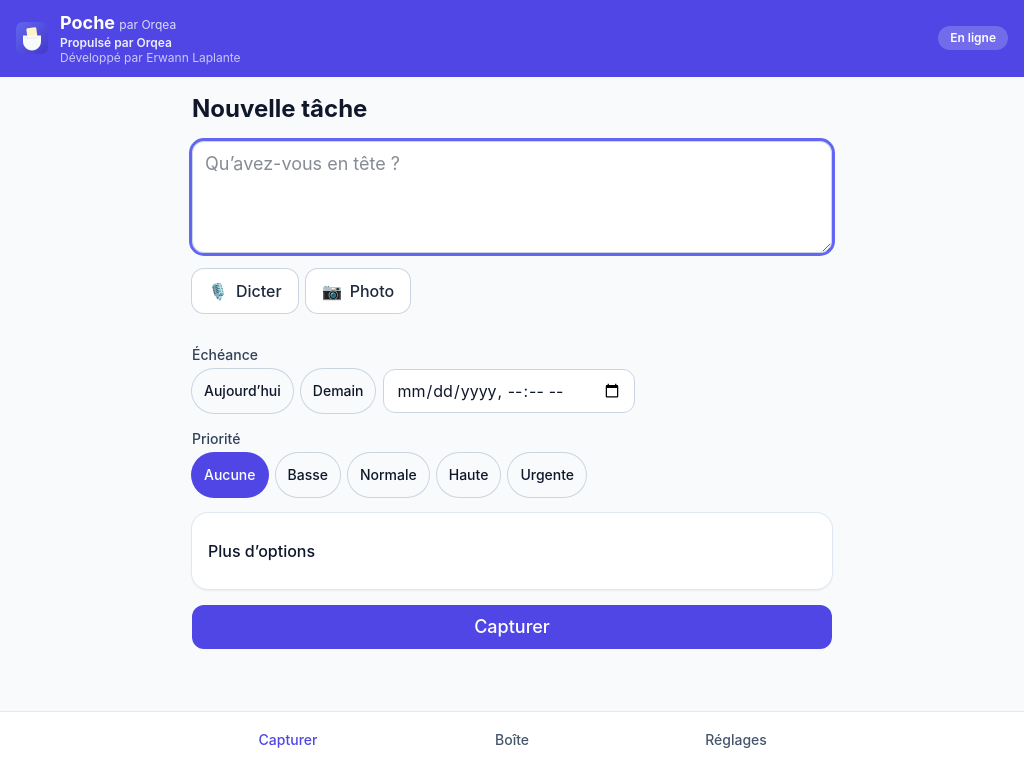
Test: App › opens on capture, navigates, and syncs at start
This screenshot has width=1024, height=768.
Expected: the heading "Nouvelle tâche" is shown, [192,94,367,122]
Expected: the 2nd button "Capturer" is shown, [176,712,400,767]
Click the button "Boîte" at point(512, 740), box [400,712,624,767]
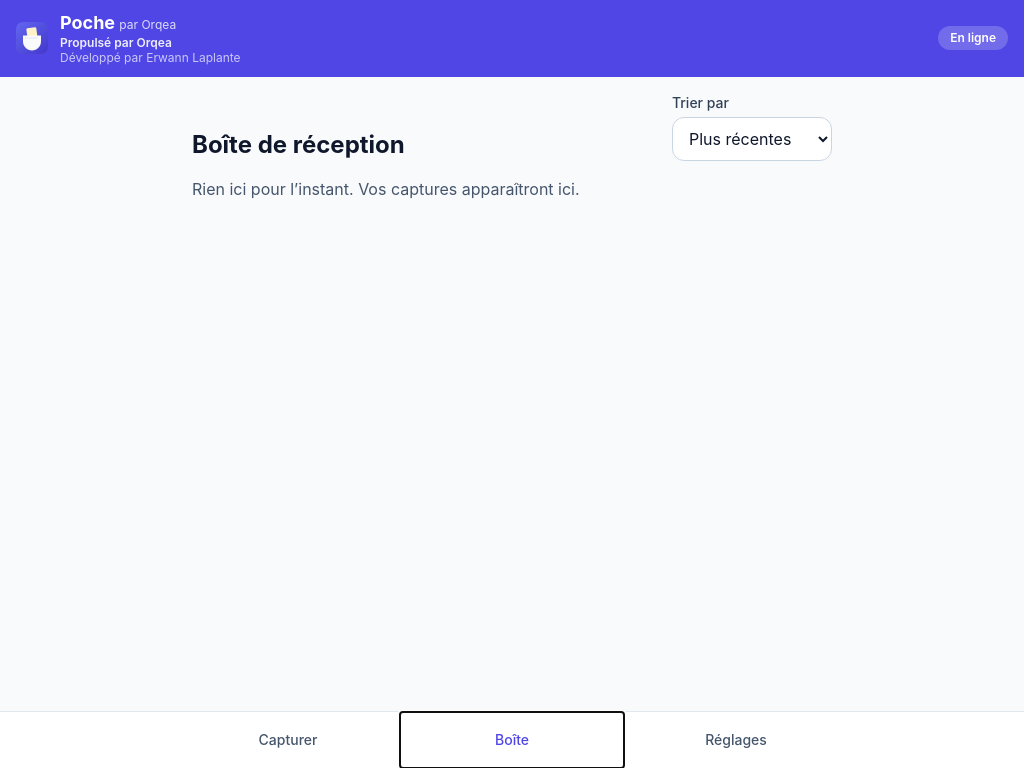
Expected: the heading "Boîte de réception" is shown, [192,128,405,160]
Click the button "Réglages" at point(736, 740), box [624,712,848,767]
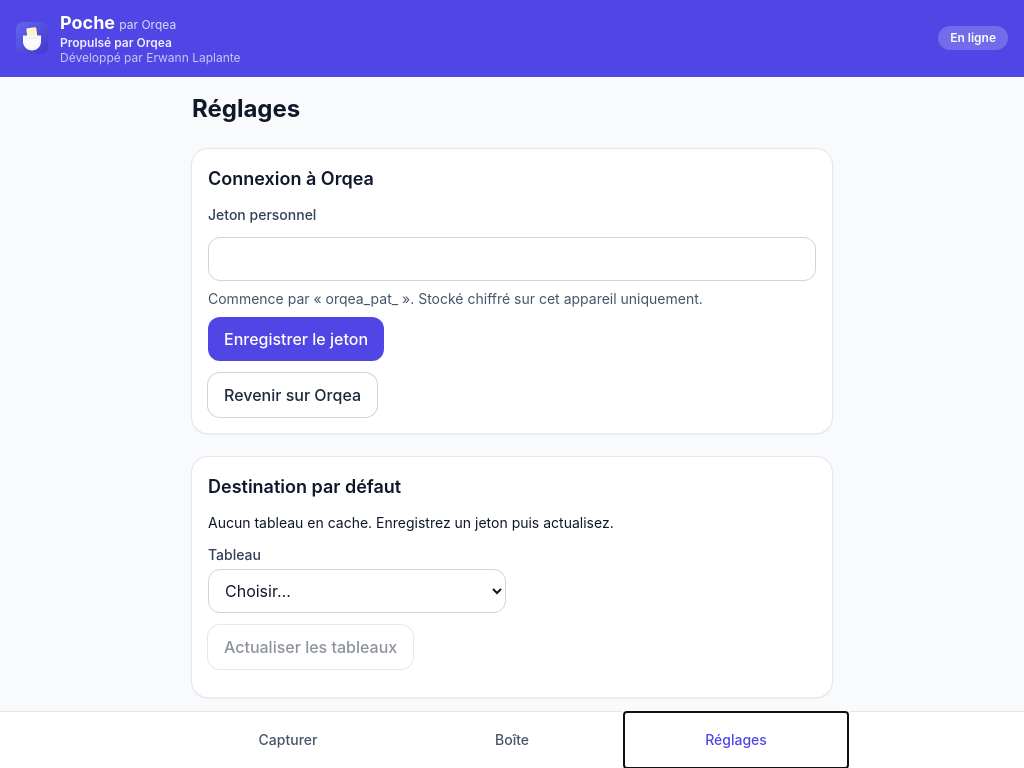
Expected: the navigation bar named "Navigation principale" is shown, [0,711,1023,767]
Expected: the heading "Réglages" is shown, [192,94,300,122]
